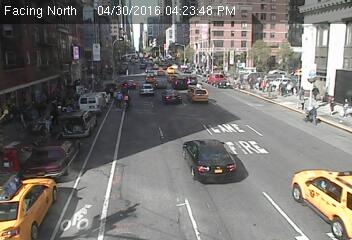neg: (196, 128, 235, 181), (60, 166, 97, 215), (18, 190, 45, 227), (144, 175, 169, 208), (258, 100, 278, 127), (67, 37, 86, 63), (245, 5, 263, 29), (204, 14, 221, 37), (43, 6, 58, 25), (115, 23, 127, 39), (82, 61, 93, 75), (142, 68, 150, 79), (188, 49, 195, 58), (52, 71, 58, 78), (136, 63, 141, 68), (208, 47, 211, 51)
pos: (307, 105, 322, 125), (309, 83, 323, 103), (326, 96, 339, 114), (298, 93, 309, 108)
